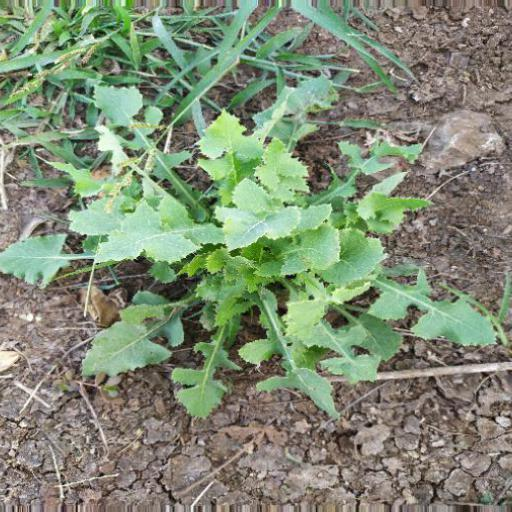weed: (1, 53, 510, 431)
